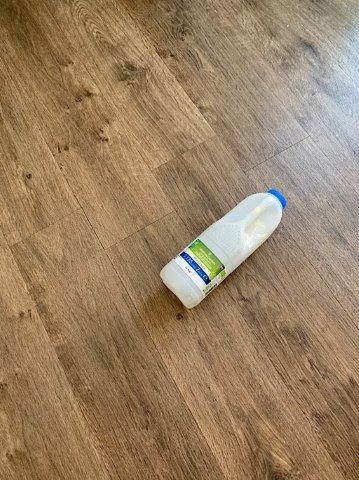botolplastik: (161, 192, 285, 307)
